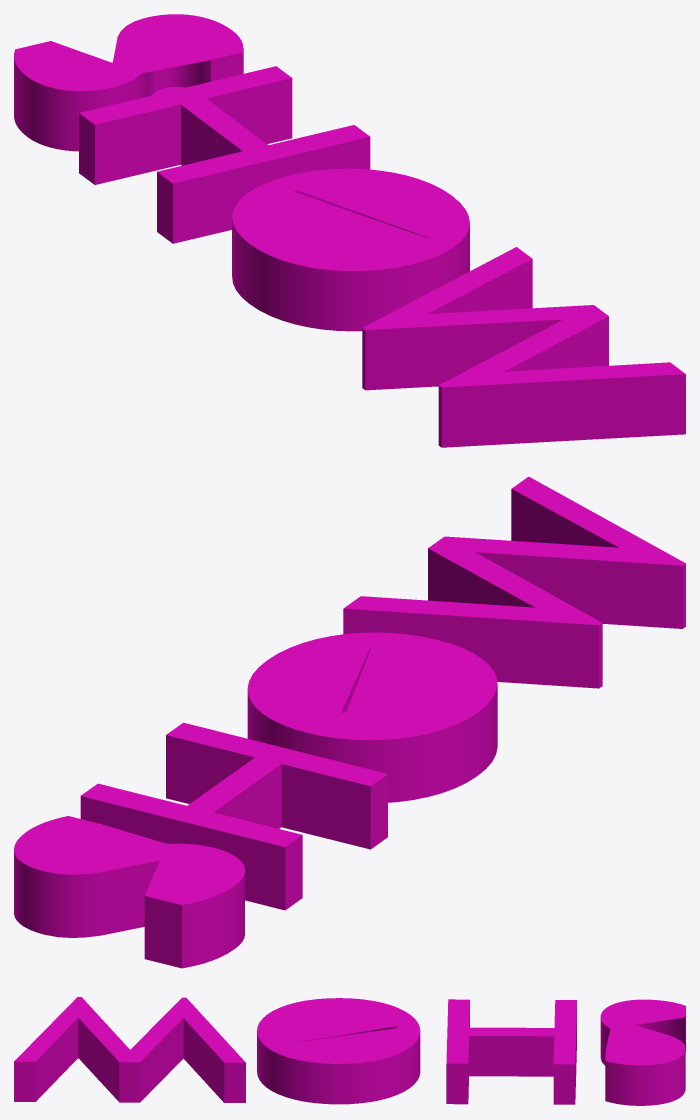
The picture shows the model from 3 angles, top to bottom: view 1: azimuth 30°, elevation 25°; view 2: azimuth 150°, elevation 25°; view 3: azimuth 270°, elevation 25°; orthographic projection. The views are drawn at different scales.
Parts seen in each view (by area): view 1: Text.001; view 2: Text.001; view 3: Text.001.
Part boxes in pixels (box(x1,y1,x2,y2)): Text.001: box(14, 14, 685, 447); Text.001: box(14, 476, 685, 968); Text.001: box(14, 997, 685, 1105).
Size of the model in its own units: 416 by 115 by 1727.
